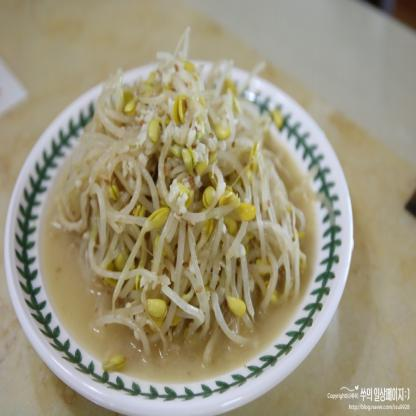bean sprouts: (91, 70, 262, 273)
